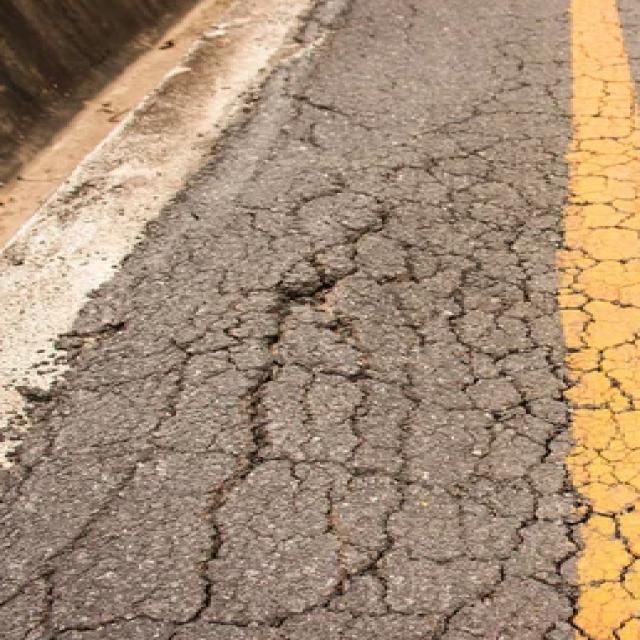Drain Hole: (151, 158, 640, 636)
